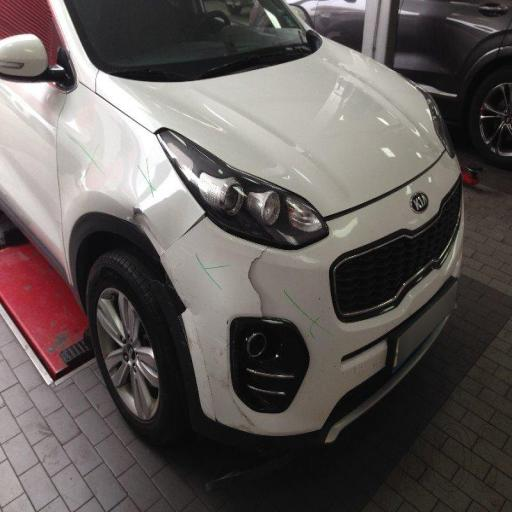broken: (228, 188, 338, 364)
scratch: (115, 122, 228, 316)
